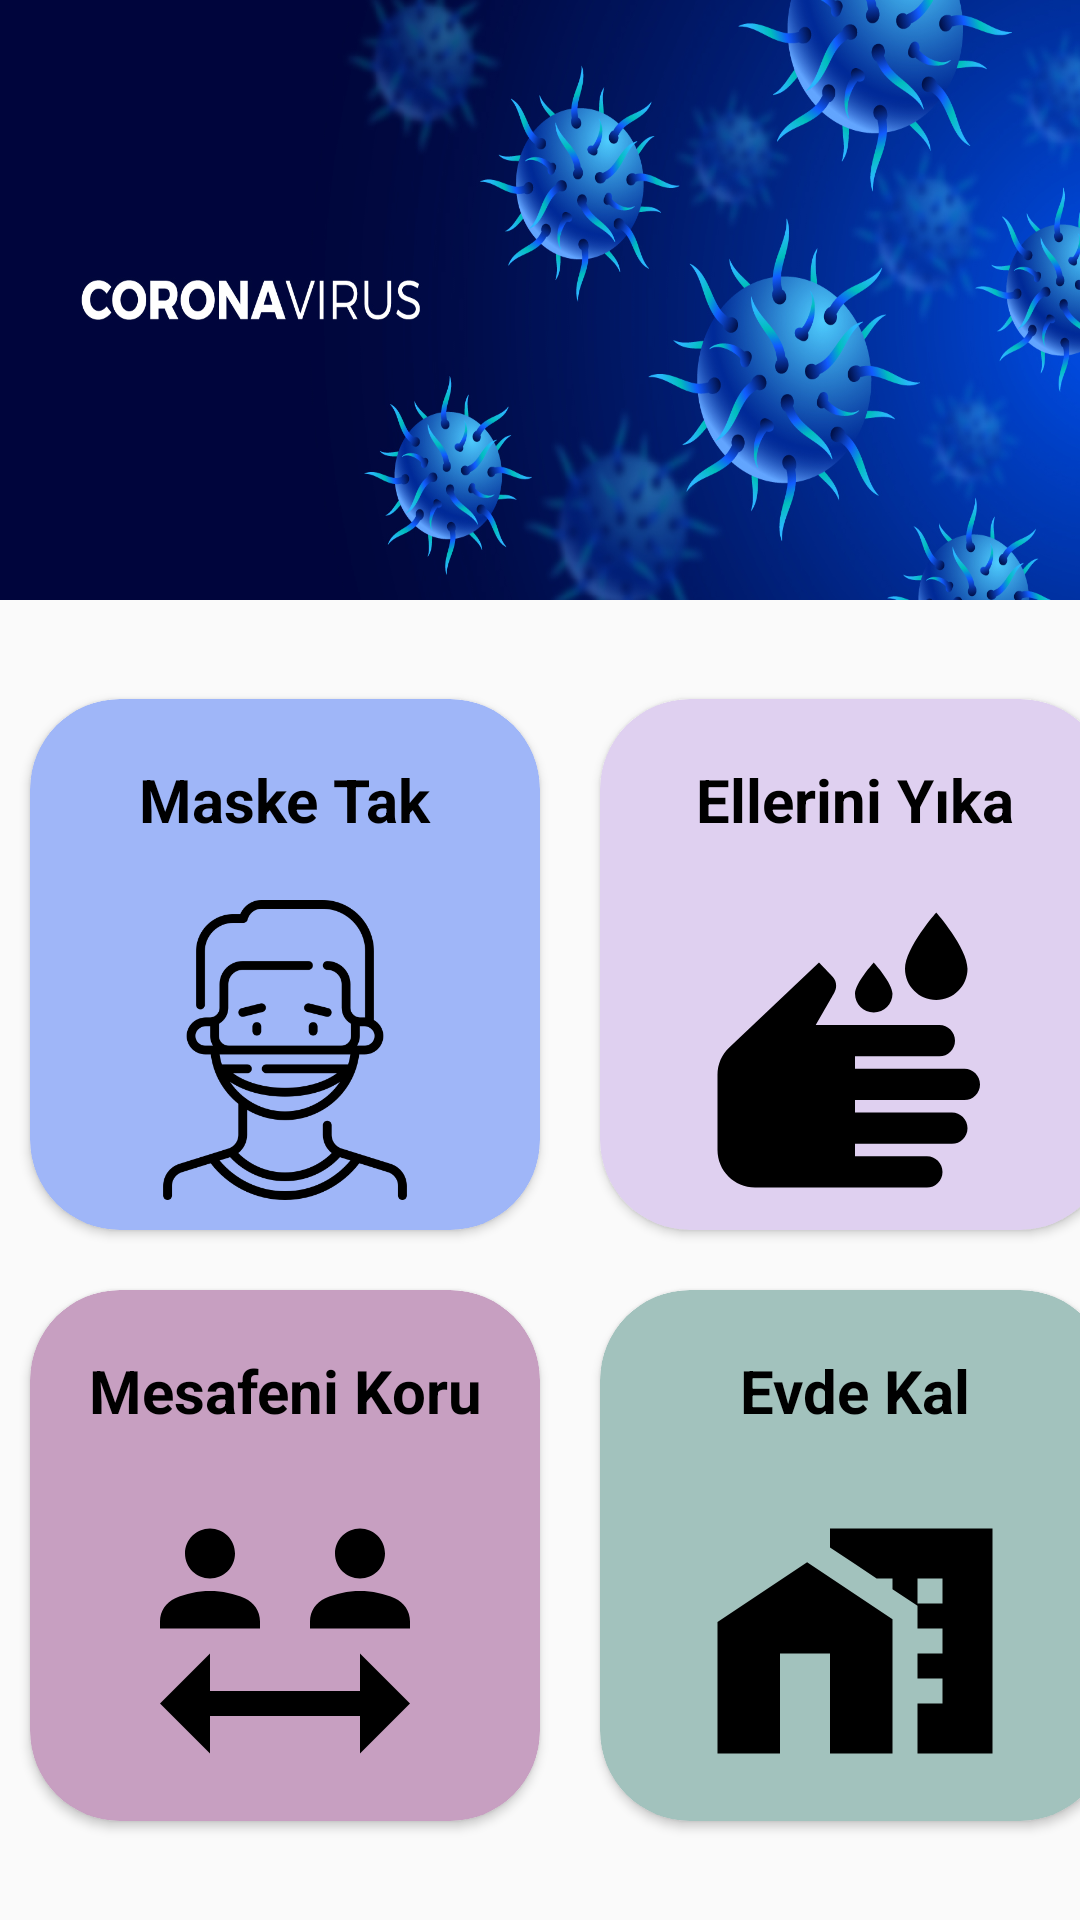

Icon click points for this 1080 x 1920 phone screenshot, format point (x, y):
korunmaresim: point (285, 1050)
sosyal mesafe: point (285, 1641)
